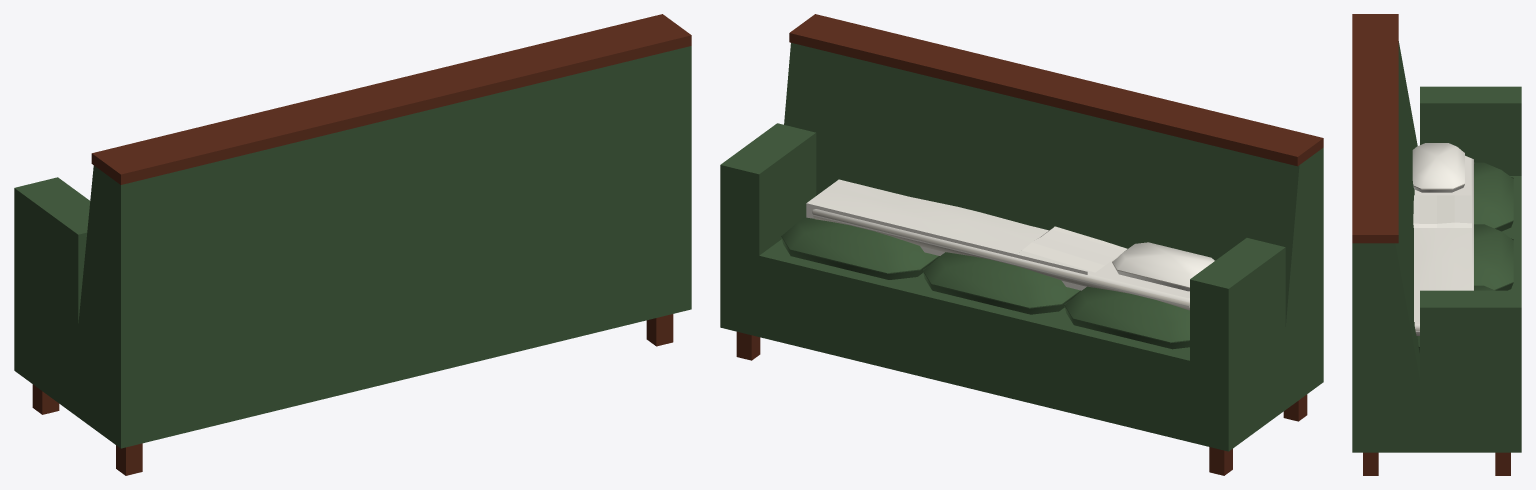
The picture shows the model from 3 angles, left to right: view 1: azimuth 30°, elevation 25°; view 2: azimuth 150°, elevation 25°; view 3: azimuth 270°, elevation 25°; orthographic projection. The views are drawn at different scales.
Visible parts, largest first — view 1: parametric-variant-sofa-1st-09b79759b3bcd6c6acca; view 2: parametric-variant-sofa-1st-09b79759b3bcd6c6acca; view 3: parametric-variant-sofa-1st-09b79759b3bcd6c6acca.
Boxes of the visible parts, x1,y1,x2,y2 form: parametric-variant-sofa-1st-09b79759b3bcd6c6acca: (14,14,691,475); parametric-variant-sofa-1st-09b79759b3bcd6c6acca: (720,14,1323,475); parametric-variant-sofa-1st-09b79759b3bcd6c6acca: (1352,14,1521,475).
Bounding box in the file's own units: 1.7 × 0.88 × 0.55.
